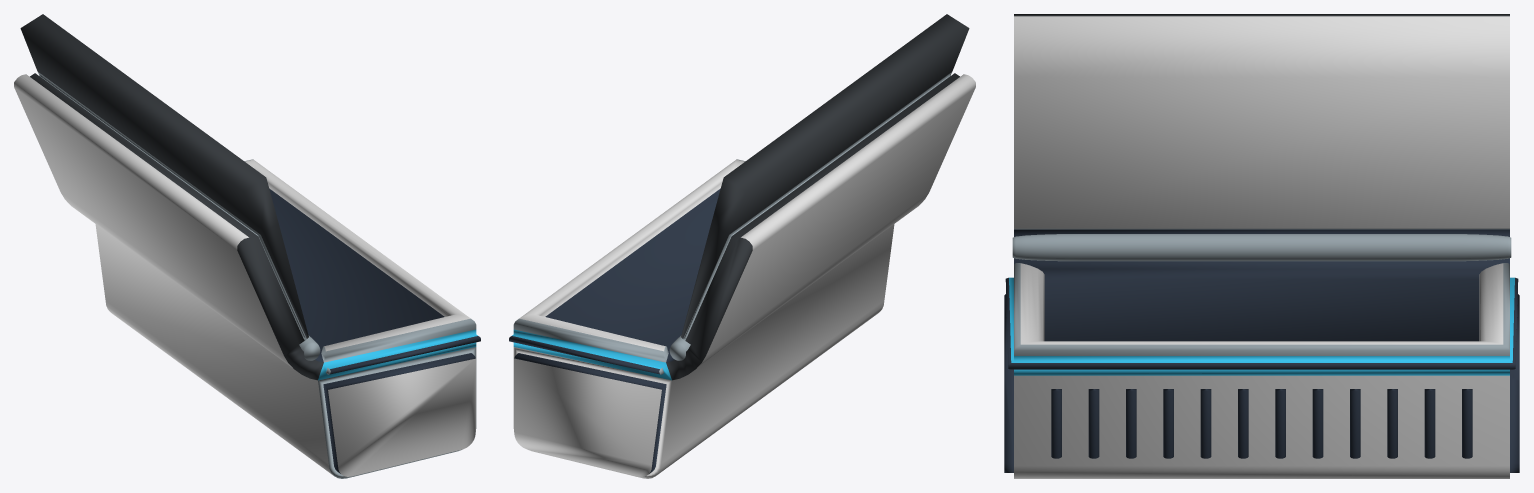
The model's file is COLORED ingredient table.fbx.
3 views of the same model, side by side, from view 1: azimuth 30°, elevation 25°; view 2: azimuth 150°, elevation 25°; view 3: azimuth 270°, elevation 25° (orthographic). The views are drawn at different scales.
Parts seen in each view (by area): view 1: Plane; view 2: Plane; view 3: Plane, Cylinder.001, Cylinder.
Part boxes in pixels (box(x1,y1,x2,y2)): Plane: box(14, 14, 480, 478); Plane: box(509, 14, 975, 478); Plane: box(1004, 14, 1519, 478); Cylinder.001: box(1012, 234, 1511, 261); Cylinder: box(1051, 389, 1472, 458).
Bounding box in the file's own units: 282 × 355 × 465.
